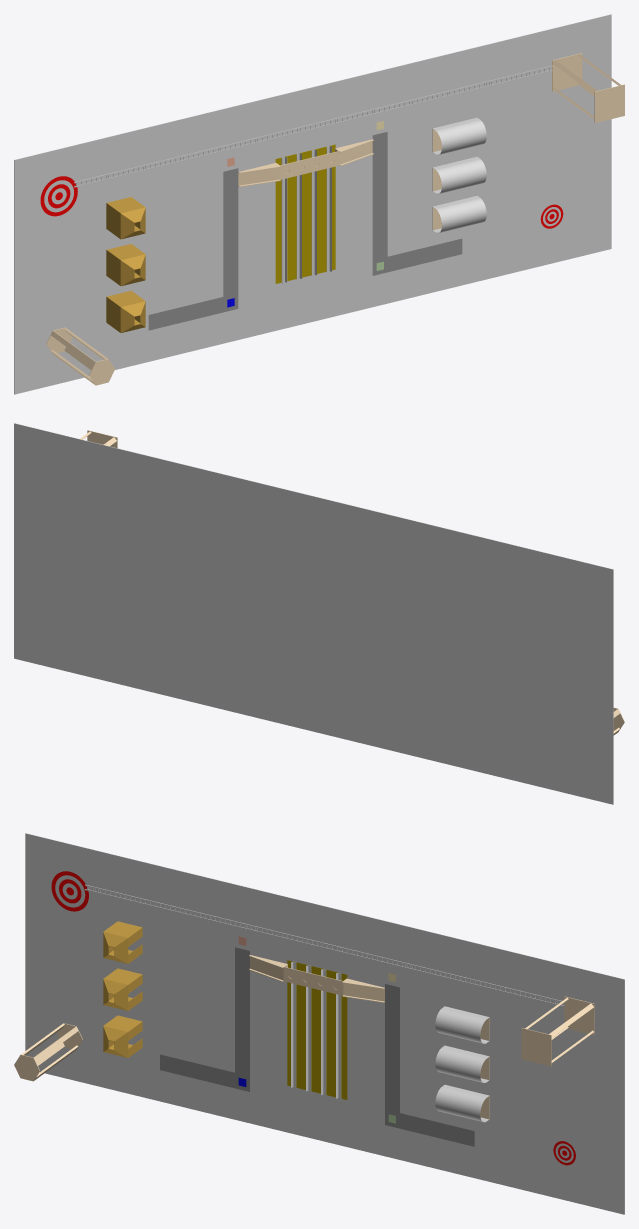
File: 2026 Field.gltf
The picture shows the model from 3 angles, top to bottom: view 1: azimuth 30°, elevation 25°; view 2: azimuth 150°, elevation 25°; view 3: azimuth 330°, elevation 25°; orthographic projection.
Visible parts, largest first — view 1: Part 1 (×15), Part 2 (×2), Part 3 (×3); view 2: Part 1; view 3: Part 1 (×15), Part 2 (×2), Part 3 (×3).
Boxes of the visible parts, <box> form: Part 1 (×15): <box>14,14,611,394</box>; Part 2 (×2): <box>148,84,624,330</box>; Part 3 (×3): <box>433,117,486,233</box>; Part 1: <box>14,423,613,804</box>; Part 1 (×15): <box>25,833,624,1214</box>; Part 2 (×2): <box>160,947,551,1091</box>; Part 3 (×3): <box>435,1006,489,1122</box>.
Bounding box in the file's own units: 12.19 × 4.57 × 1.54.
